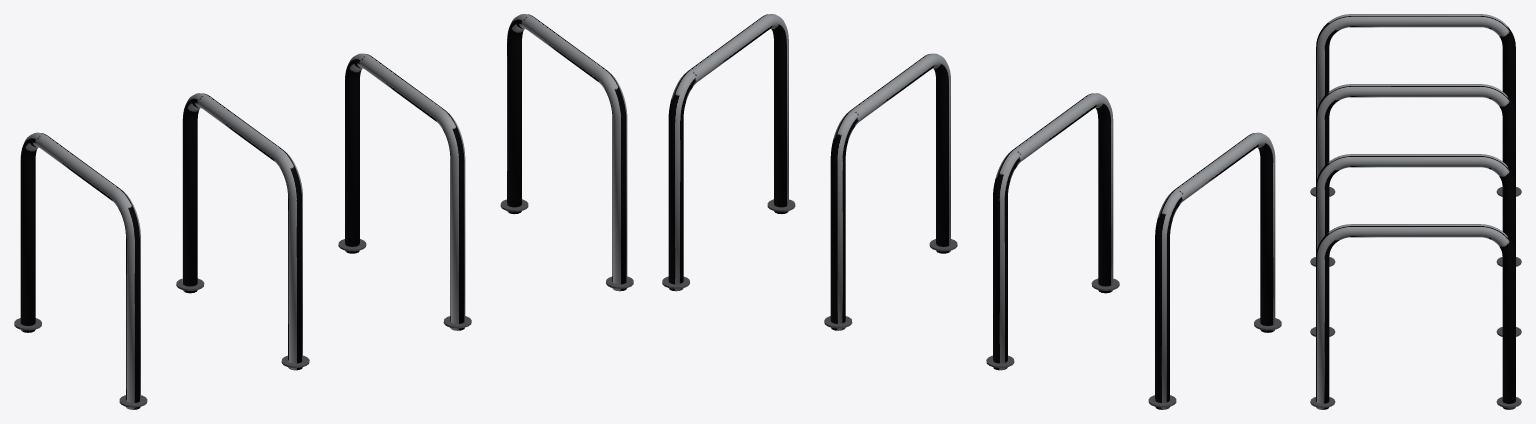
The model's file is bike_rack.glb.
3 views of the same model, side by side, from view 1: azimuth 30°, elevation 25°; view 2: azimuth 150°, elevation 25°; view 3: azimuth 270°, elevation 25° (orthographic). The views are drawn at different scales.
Parts seen in each view (by area): view 1: hoop; view 2: hoop; view 3: hoop.
Boxes of the visible parts, <box> form: hoop: <box>14,14,633,409</box>; hoop: <box>662,14,1281,409</box>; hoop: <box>1310,14,1521,409</box>.
Size of the model in its own units: 2.52 by 0.972 by 1.02.
1 material, 1 textured.
